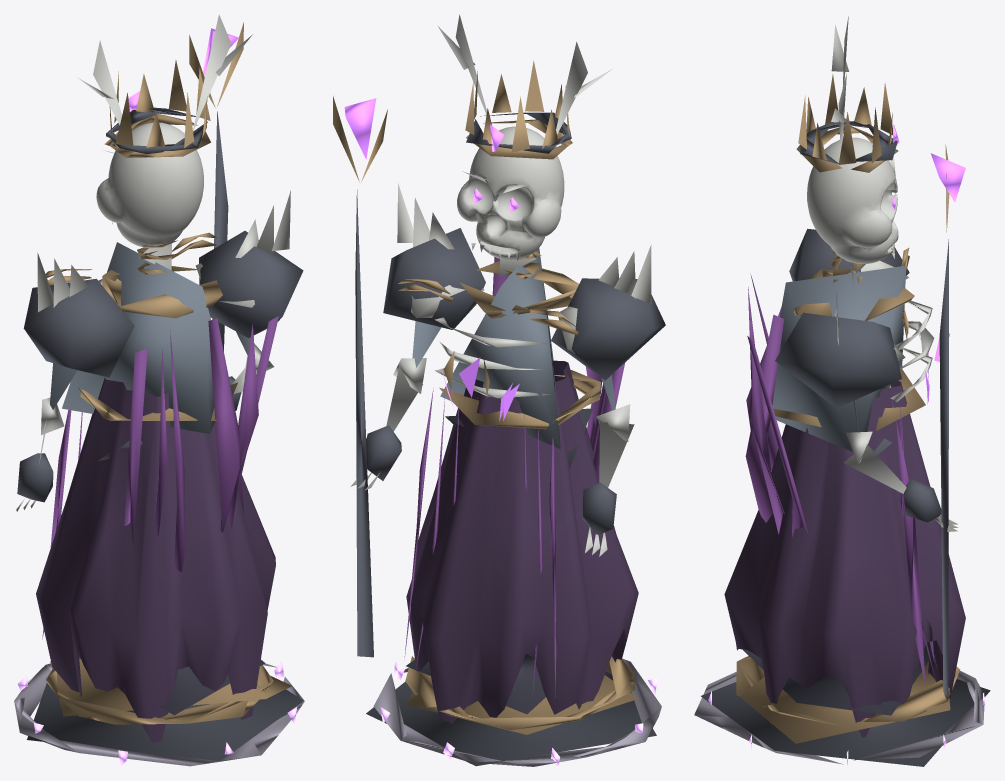
The model's file is roi_liche.fbx.
3 renders of one model, left to right at view 1: azimuth 30°, elevation 25°; view 2: azimuth 150°, elevation 25°; view 3: azimuth 270°, elevation 25°, orthographic. The views are drawn at different scales.
Parts seen in each view (by area): view 1: roi_liche; view 2: roi_liche; view 3: roi_liche.
Boxes of the visible parts, left/top/right/bottom form: roi_liche: left=14, top=14, right=304, bottom=766; roi_liche: left=333, top=14, right=665, bottom=766; roi_liche: left=694, top=16, right=990, bottom=766.
Size of the model in its own units: 75.21 by 182 by 72.96.
